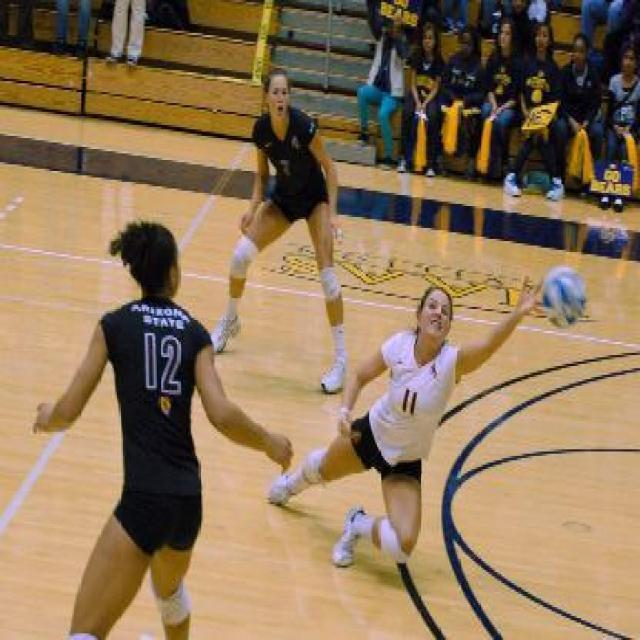volleyball: (544, 269, 588, 330)
